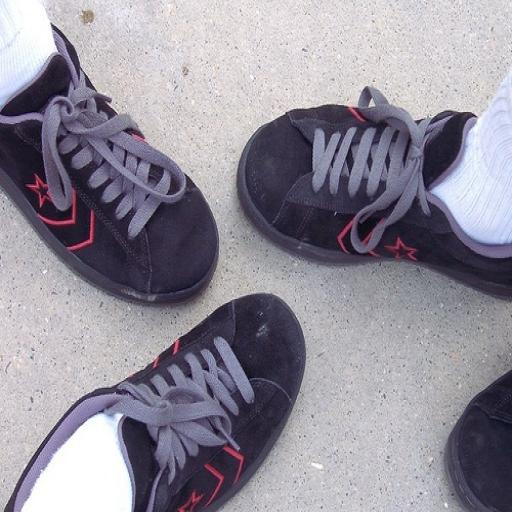shoe: (5, 293, 305, 512), (0, 29, 218, 303), (237, 87, 512, 298), (445, 371, 512, 512)
